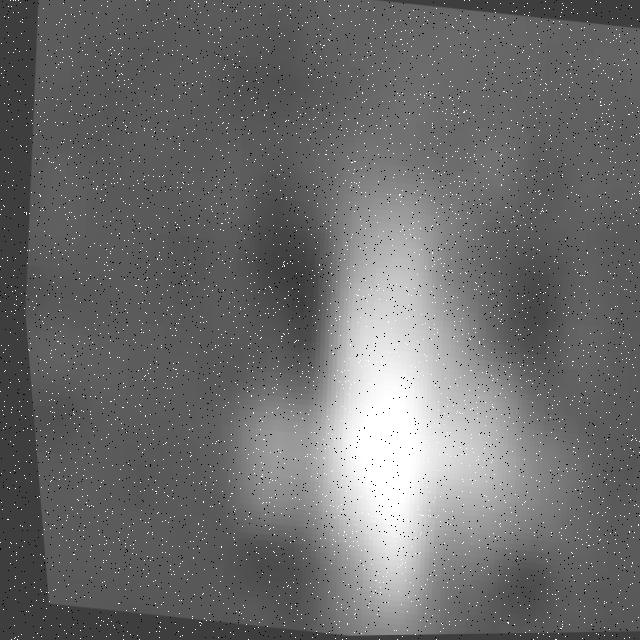person: (228, 171, 565, 638)
